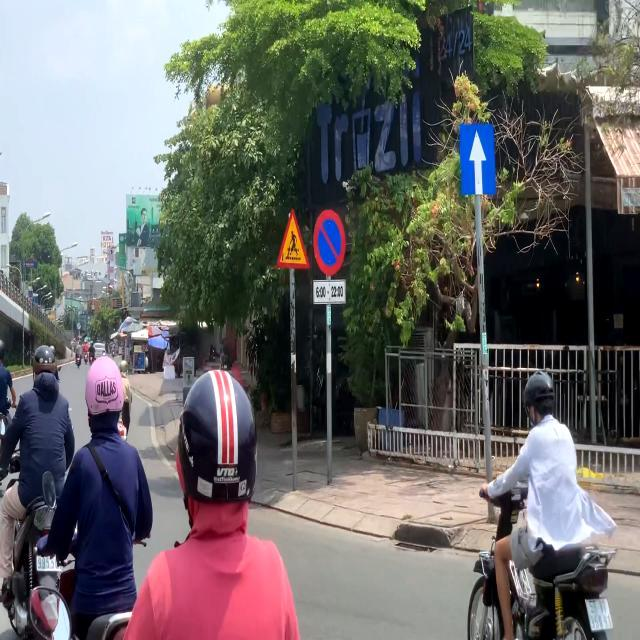Cam do xe: (313, 209, 346, 276)
Duong mot chieu: (458, 123, 496, 196)
Nguoi di bo cat ngang: (276, 208, 310, 270)
